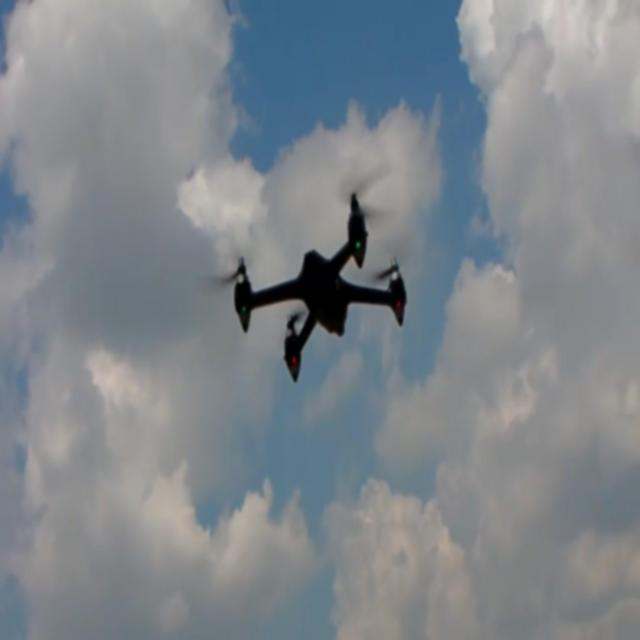UAV: (232, 183, 408, 381)
